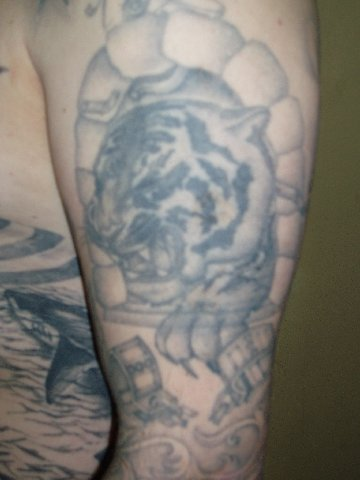tatu5_tigr: (88, 96, 284, 370)
